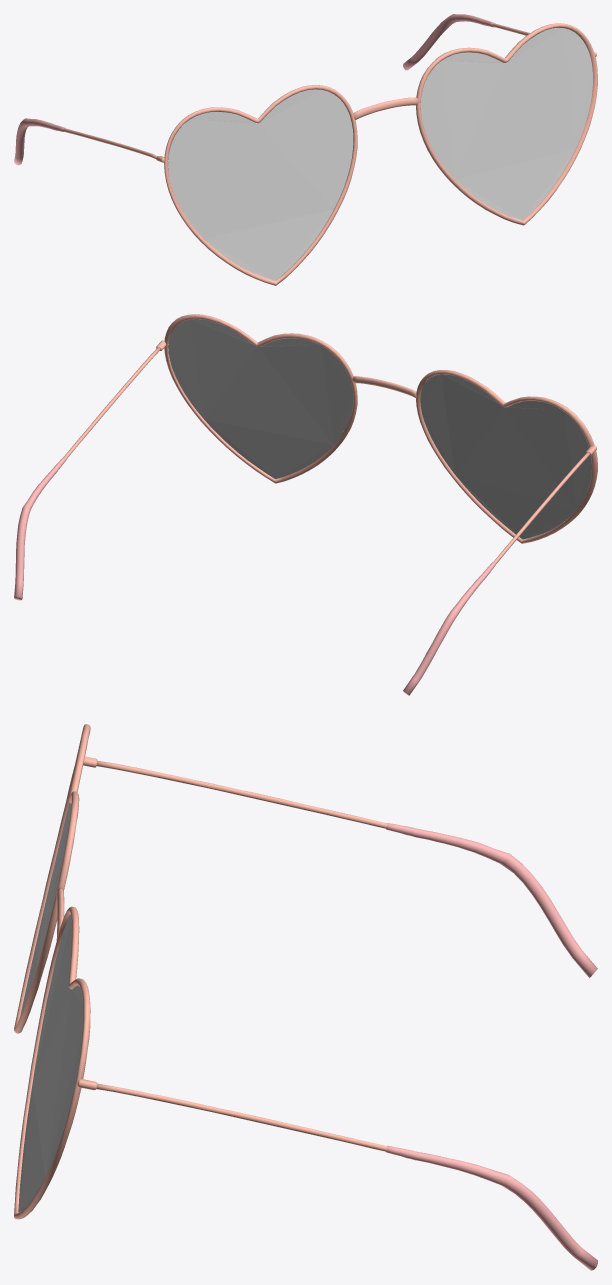
Rendered from glasses-5.glb.
3 views of the same model, one above another, from view 1: azimuth 30°, elevation 25°; view 2: azimuth 150°, elevation 25°; view 3: azimuth 270°, elevation 25° (orthographic). The views are drawn at different scales.
Parts seen in each view (by area): view 1: Circle.002_3, Cylinder_6, BezierCurve_2, Cylinder.001_5; view 2: Circle.002_3, Cylinder_6, BezierCurve_2, Cylinder.001_5; view 3: Circle.002_3, Cylinder_6, BezierCurve_2, Cylinder.001_5.
Part boxes in pixels (box(x1,y1,x2,y2)): Circle.002_3: box(168, 28, 592, 280); Cylinder_6: box(164, 23, 597, 285); BezierCurve_2: box(14, 14, 494, 165); Cylinder.001_5: box(63, 23, 529, 158); Circle.002_3: box(168, 319, 591, 539); Cylinder_6: box(164, 314, 597, 543); BezierCurve_2: box(14, 457, 495, 695); Cylinder.001_5: box(64, 347, 589, 563); Circle.002_3: box(18, 802, 83, 1212); Cylinder_6: box(14, 724, 90, 1219); BezierCurve_2: box(386, 823, 597, 1270); Cylinder.001_5: box(96, 760, 387, 1151).
Size of the model in its own units: 4.73 by 1.8 by 3.56.
